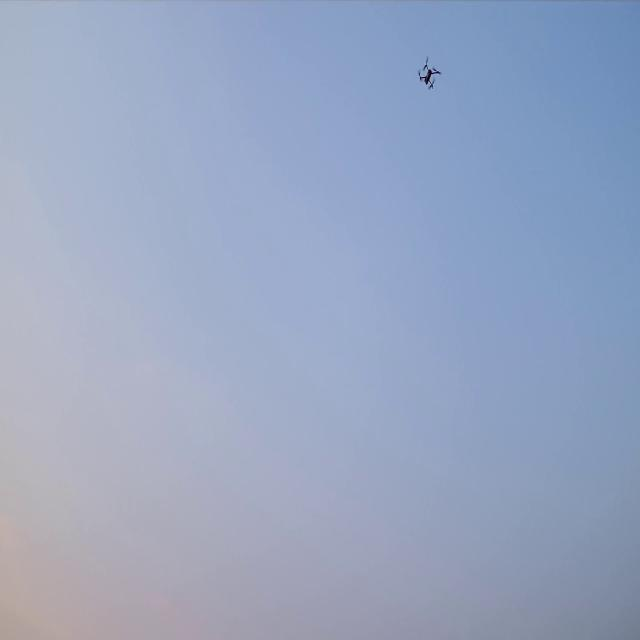UAV: (419, 61, 439, 88)
